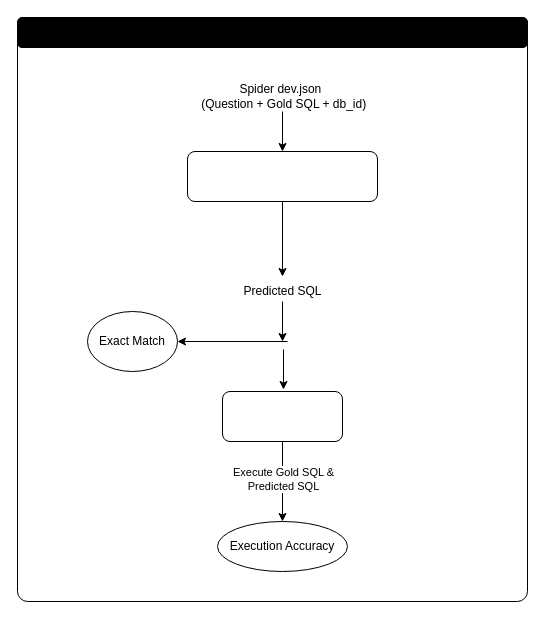
This 545x619 diagram has some shape labels left out. Here are the shapes that lost their labels. From the top down, the centre of each, then its label:
At point (282, 176): "Proposed Schema-RAG Framework".
At point (282, 416): "SQLite Executor".
